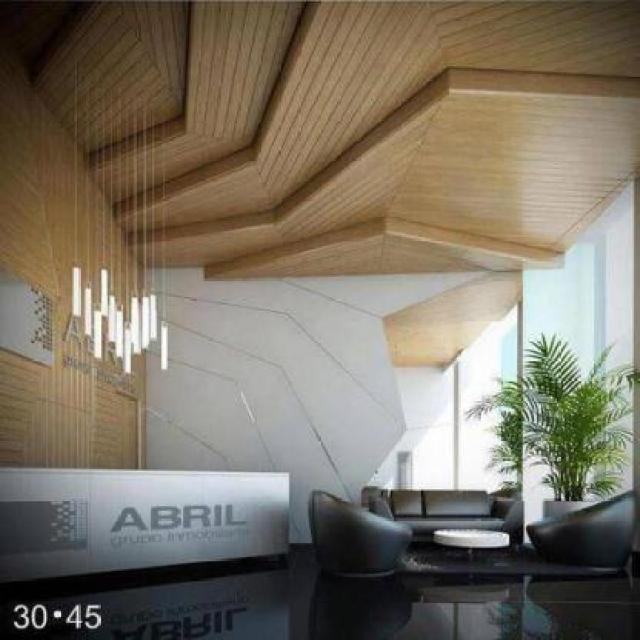frontdesk: (0, 449, 298, 593)
